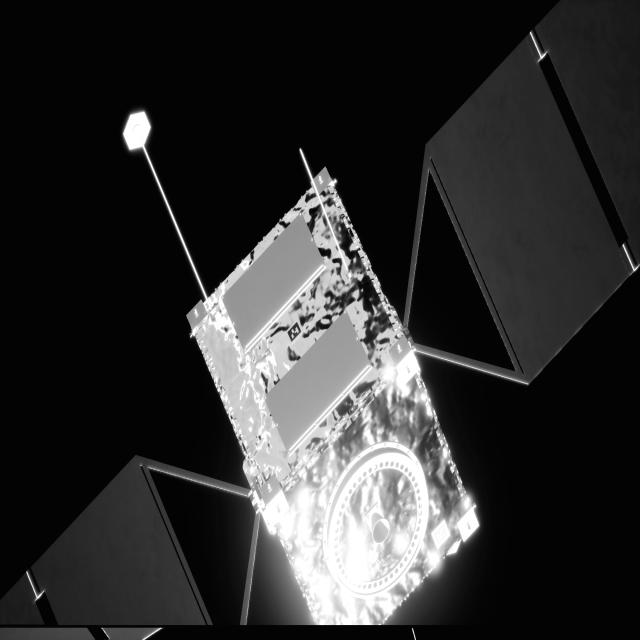satellite: (0, 0, 640, 630)
